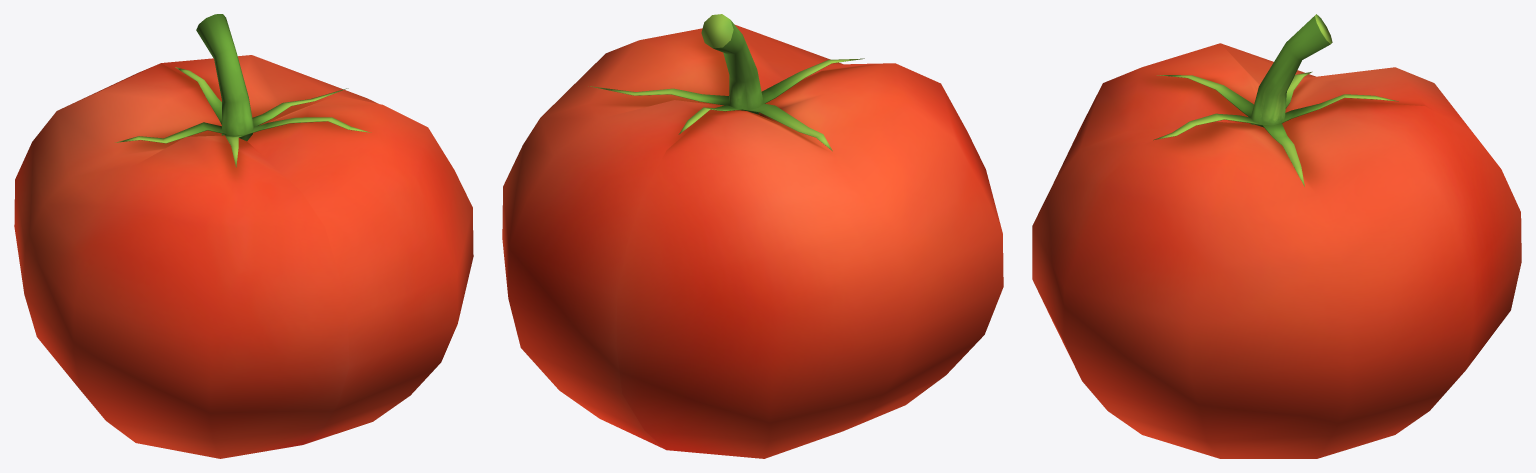
File: FOD0110020.fbx
3 renders of one model, left to right at view 1: azimuth 30°, elevation 25°; view 2: azimuth 150°, elevation 25°; view 3: azimuth 270°, elevation 25°, orthographic. The views are drawn at different scales.
Parts seen in each view (by area): view 1: smFOD0110020; view 2: smFOD0110020; view 3: smFOD0110020.
Part boxes in pixels (bbox=[...]): smFOD0110020: bbox=[14, 14, 473, 458]; smFOD0110020: bbox=[502, 14, 1003, 458]; smFOD0110020: bbox=[1032, 14, 1521, 458].
Size of the model in its own units: 9.5 by 8.74 by 9.65.
Materials: 1 (1 with a texture image).
